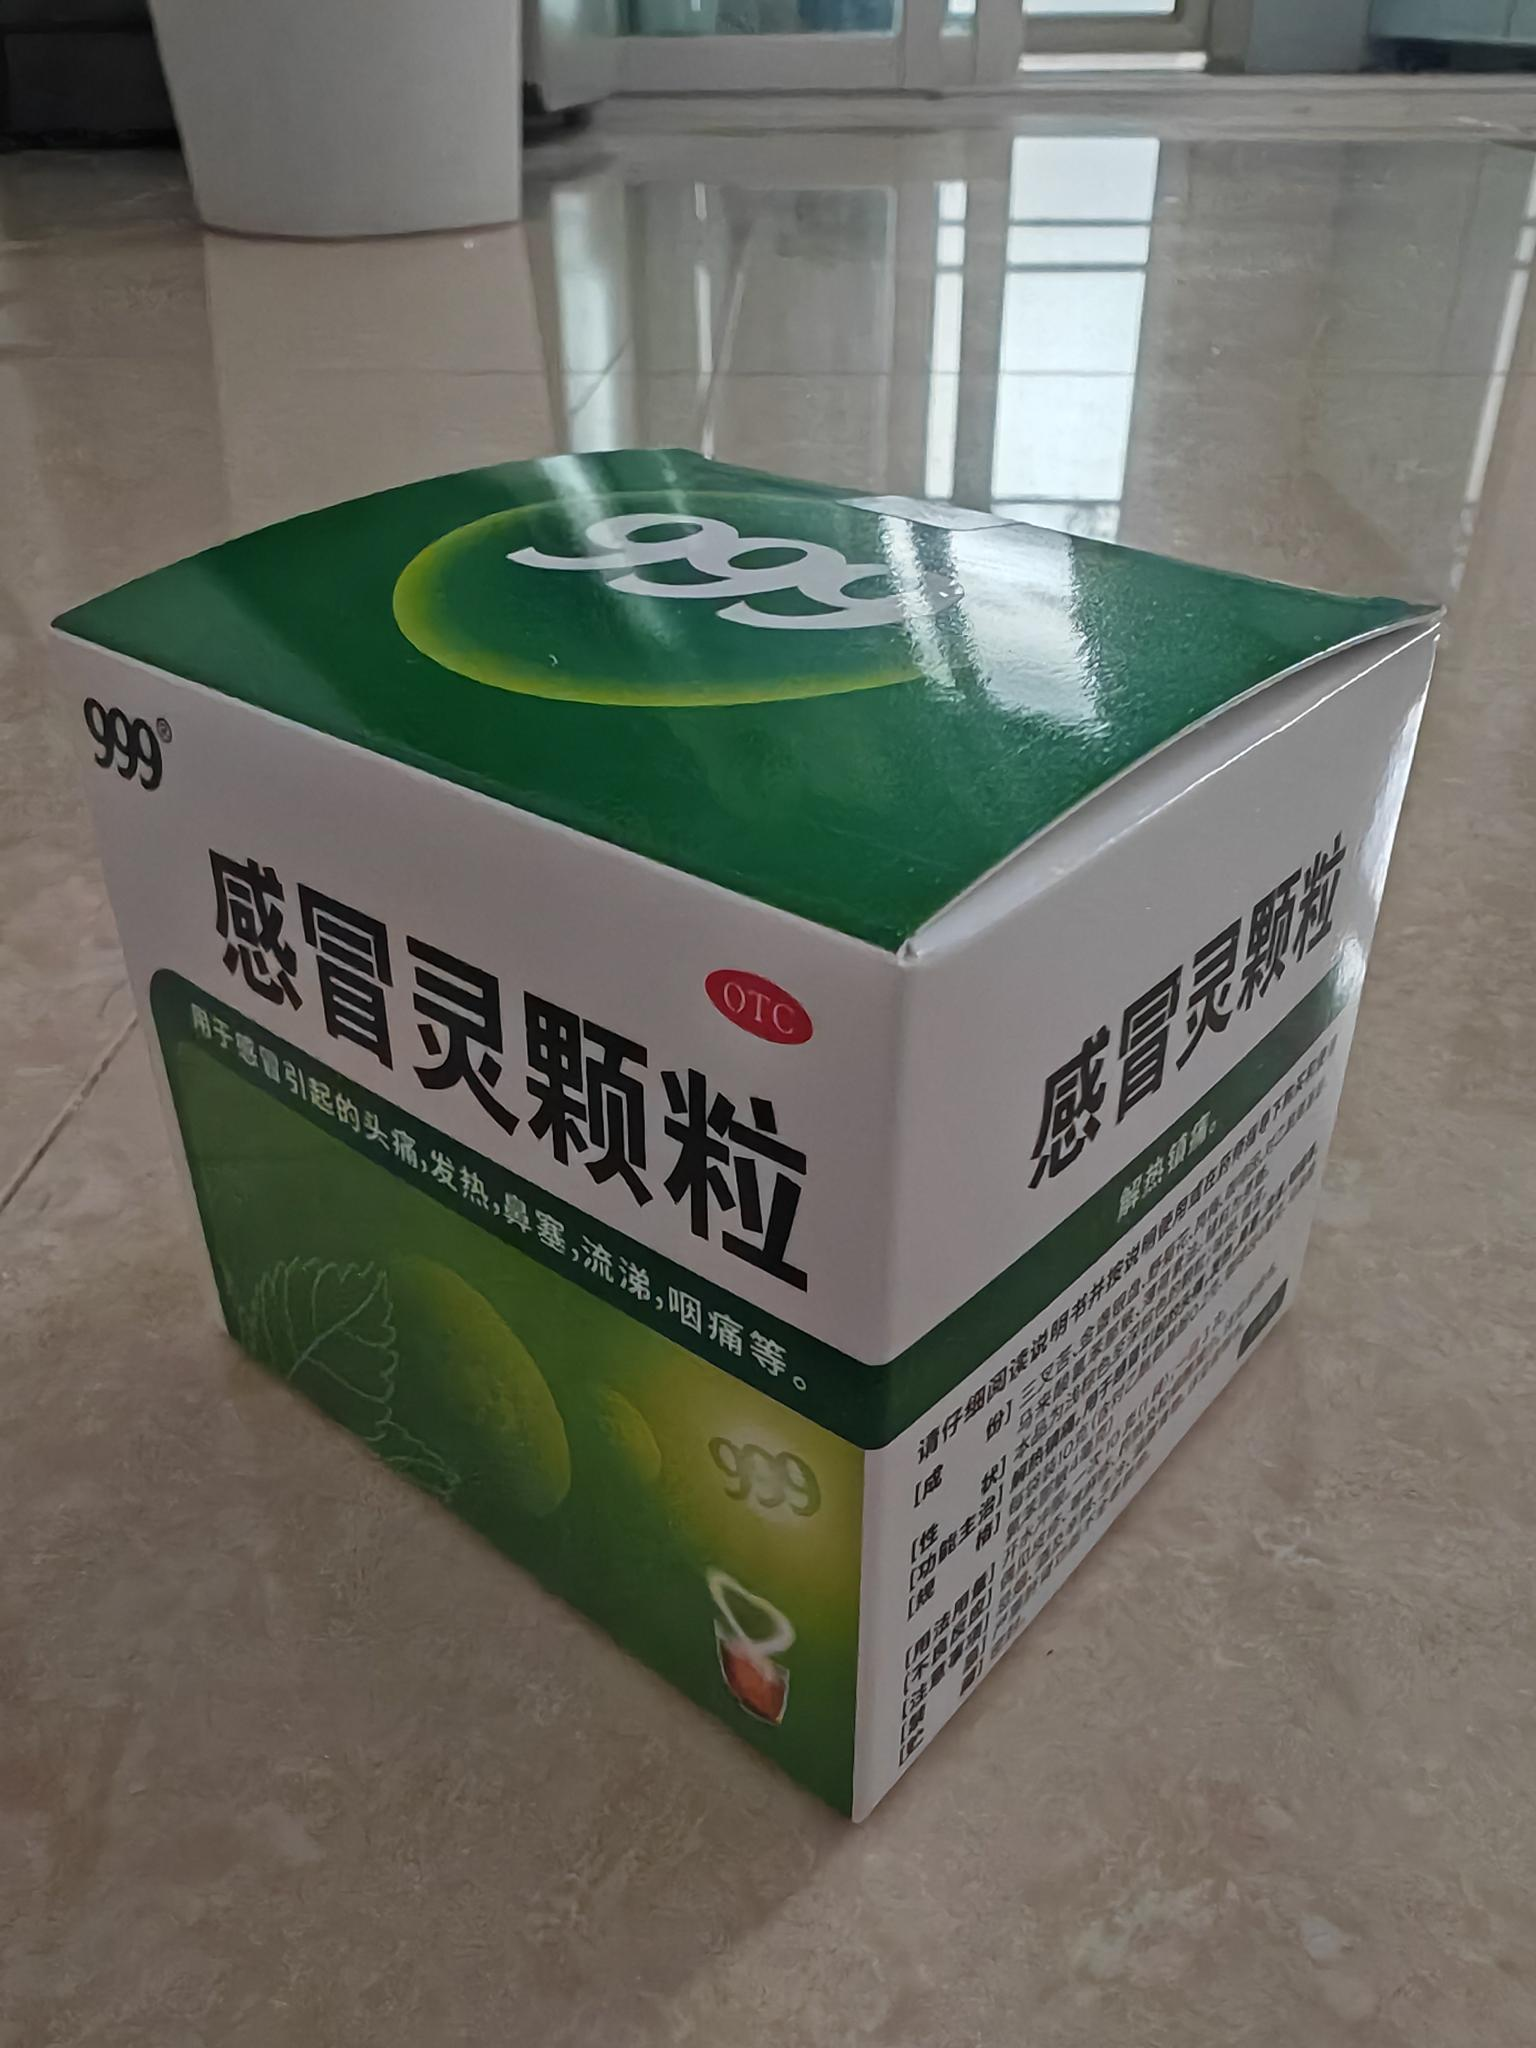Medicine3: (29, 427, 1475, 1863)
